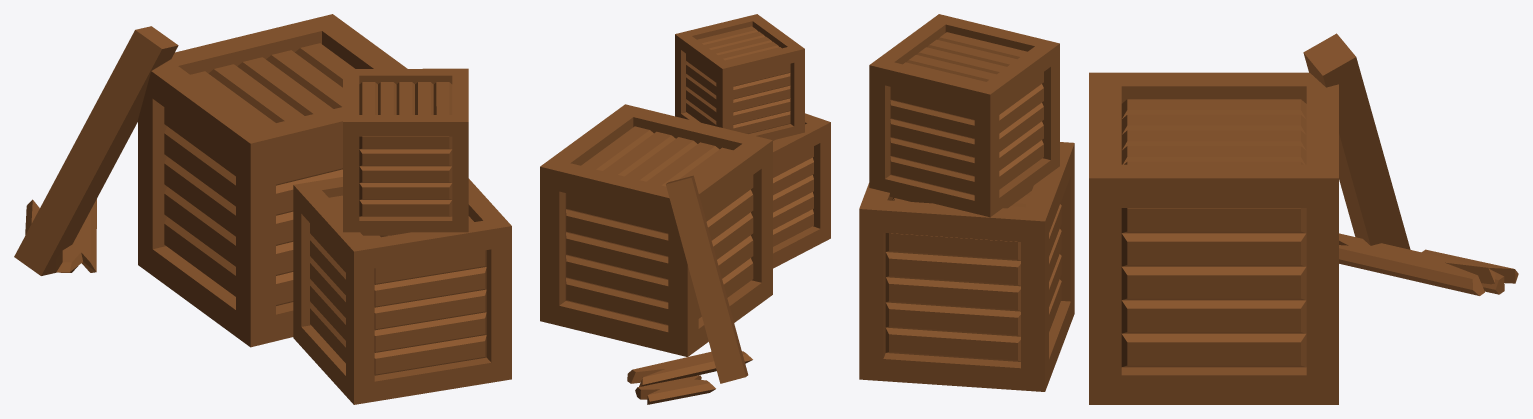
The model's file is decor1.fbx.
3 renders of one model, left to right at view 1: azimuth 30°, elevation 25°; view 2: azimuth 150°, elevation 25°; view 3: azimuth 270°, elevation 25°, orthographic. The views are drawn at different scales.
Visible parts, largest first — view 1: wooden box.019, wooden box.022, wooden box.020, wooden box.018, wooden box.025; view 2: wooden box.019, wooden box.020, wooden box.022, wooden box.018, wooden box.025, wooden box.026; view 3: wooden box.019, wooden box.022, wooden box.020, wooden box.018, wooden box.025, wooden box.026.
Boxes of the visible parts, x1,y1,x2,y2 form: wooden box.019: (138, 14, 407, 347); wooden box.022: (293, 177, 511, 404); wooden box.020: (343, 68, 468, 235); wooden box.018: (14, 26, 178, 275); wooden box.025: (56, 199, 96, 272); wooden box.019: (540, 104, 772, 356); wooden box.020: (675, 14, 804, 140); wooden box.022: (773, 113, 830, 268); wooden box.018: (666, 175, 748, 383); wooden box.025: (627, 351, 752, 386); wooden box.026: (635, 375, 715, 404); wooden box.019: (1089, 72, 1338, 404); wooden box.022: (859, 142, 1074, 391); wooden box.020: (869, 14, 1059, 217); wooden box.018: (1303, 33, 1410, 249); wooden box.025: (1339, 233, 1495, 295); wooden box.026: (1422, 249, 1518, 294).
Bounding box in the file's own units: 516 × 456 × 897.
